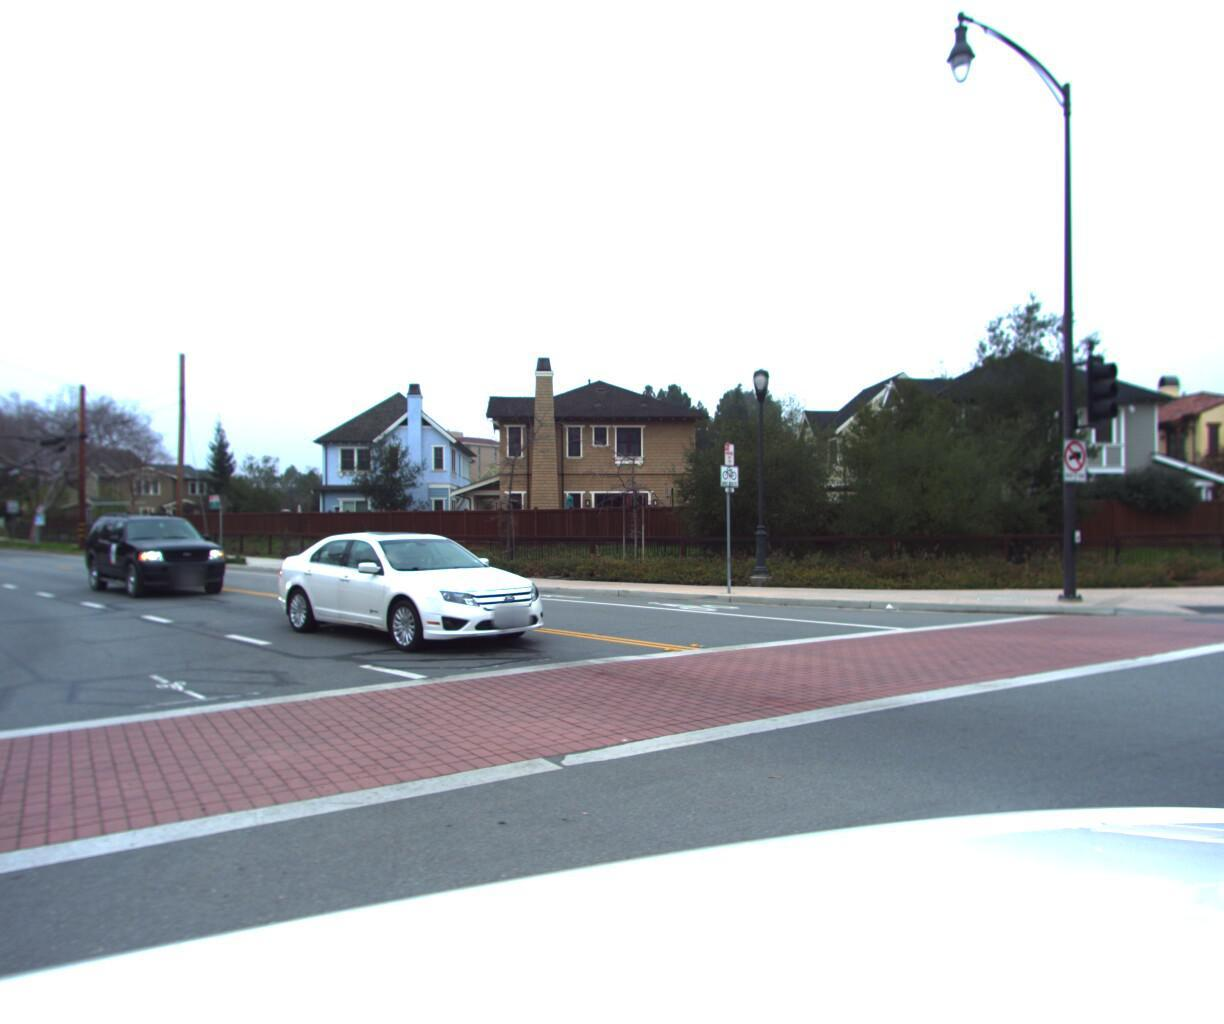car: (259, 523, 582, 665), (69, 506, 231, 605)
